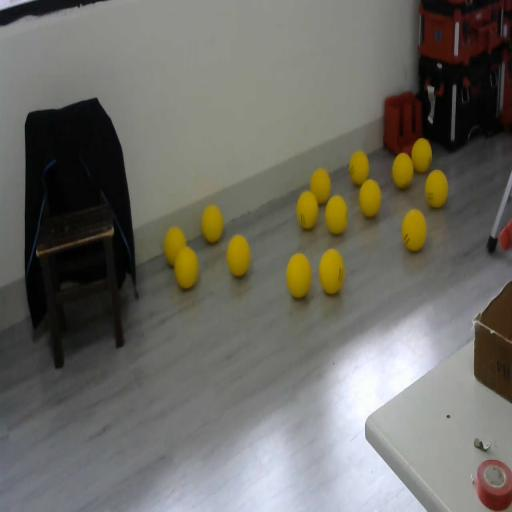FUEL: (285, 251, 312, 299), (318, 248, 344, 295), (226, 233, 252, 278), (162, 225, 188, 267), (402, 208, 426, 252), (424, 168, 449, 209), (324, 194, 348, 236), (200, 203, 224, 244), (358, 178, 382, 218), (296, 190, 318, 230), (392, 151, 414, 190), (310, 168, 331, 205), (349, 150, 370, 186), (412, 137, 432, 173)
